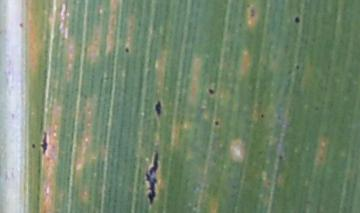tarspot: (142, 148, 162, 206), (40, 130, 50, 156), (153, 98, 164, 118), (247, 5, 258, 19), (207, 87, 218, 97), (293, 15, 301, 25), (259, 112, 267, 121), (30, 141, 37, 150), (213, 120, 222, 127), (18, 21, 26, 28), (123, 46, 130, 54), (278, 154, 285, 162), (295, 64, 302, 71)
